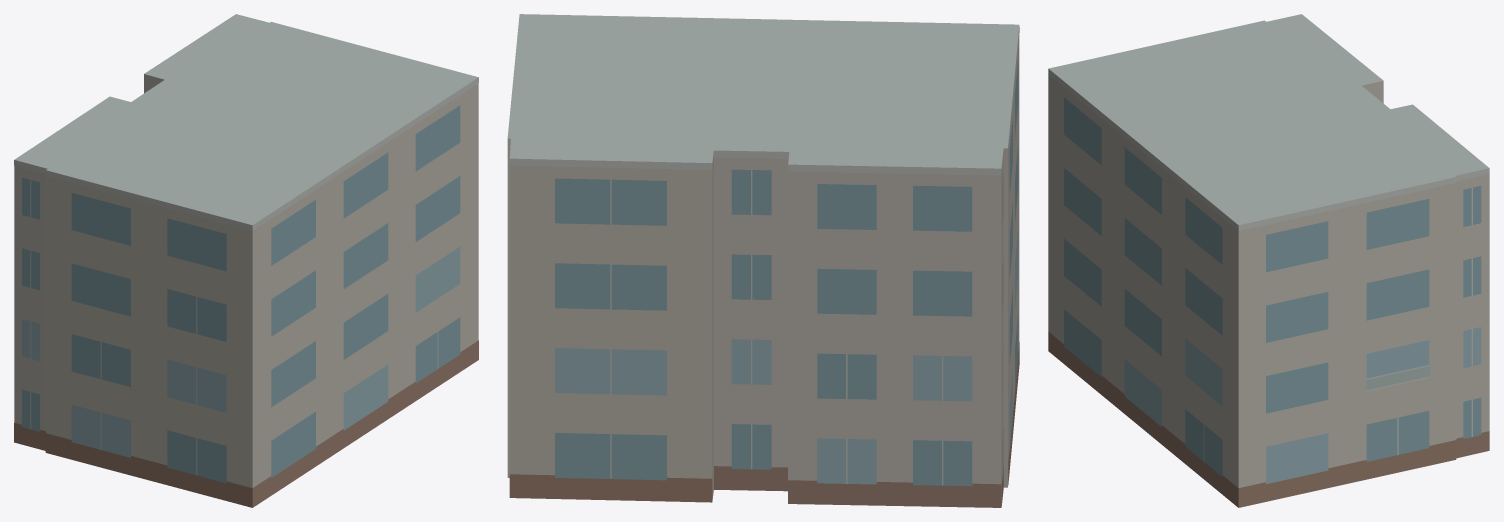
File: survey-upis-32822709.glb
The picture shows the model from 3 angles, left to right: view 1: azimuth 30°, elevation 25°; view 2: azimuth 150°, elevation 25°; view 3: azimuth 270°, elevation 25°; orthographic projection. The views are drawn at different scales.
Visible parts, largest first — view 1: survey-upis-32822709.tmp; view 2: survey-upis-32822709.tmp; view 3: survey-upis-32822709.tmp.
Part boxes in pixels (bbox=[...]): survey-upis-32822709.tmp: bbox=[14, 14, 478, 507]; survey-upis-32822709.tmp: bbox=[507, 14, 1019, 507]; survey-upis-32822709.tmp: bbox=[1048, 14, 1489, 507].
Bounding box in the file's own units: 19.25 × 12 × 16.99.
